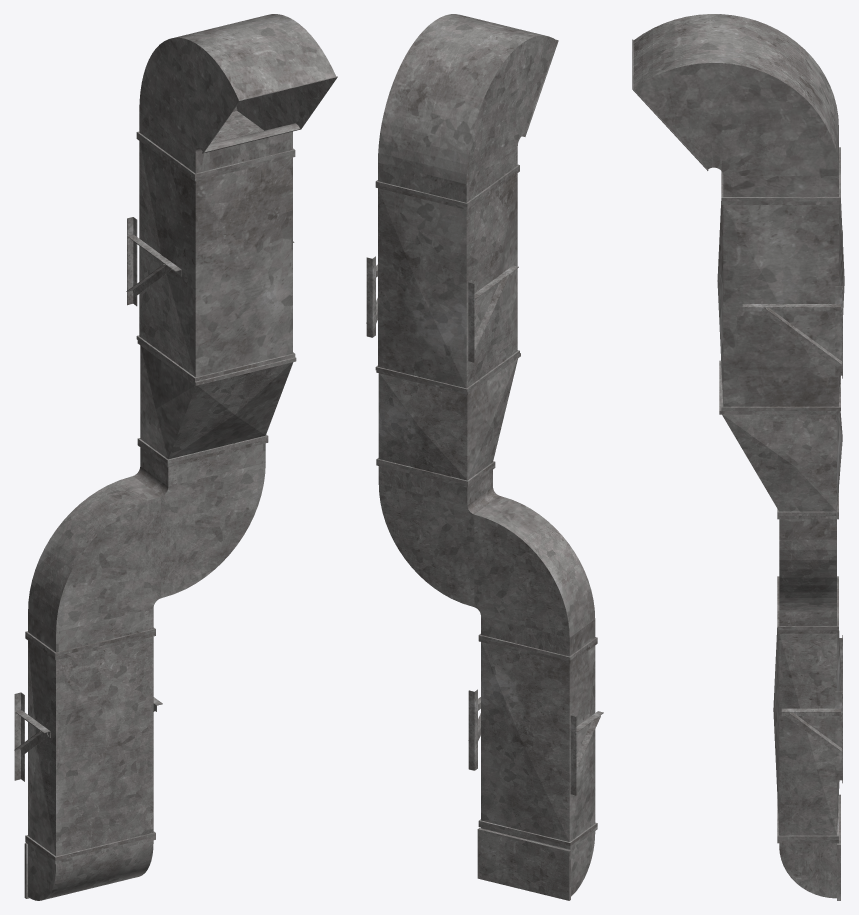
The model's file is guandao1.fbx.
The picture shows the model from 3 angles, left to right: view 1: azimuth 30°, elevation 25°; view 2: azimuth 150°, elevation 25°; view 3: azimuth 270°, elevation 25°; orthographic projection. The views are drawn at different scales.
Visible parts, largest first — view 1: duct 600x300x1200.011; view 2: duct 600x300x1200.011; view 3: duct 600x300x1200.011.
Part boxes in pixels (bbox=[...]): duct 600x300x1200.011: bbox=[14, 14, 337, 900]; duct 600x300x1200.011: bbox=[366, 14, 603, 900]; duct 600x300x1200.011: bbox=[632, 14, 844, 900].
Bounding box in the file's own units: 56.33 × 201 × 43.39.
